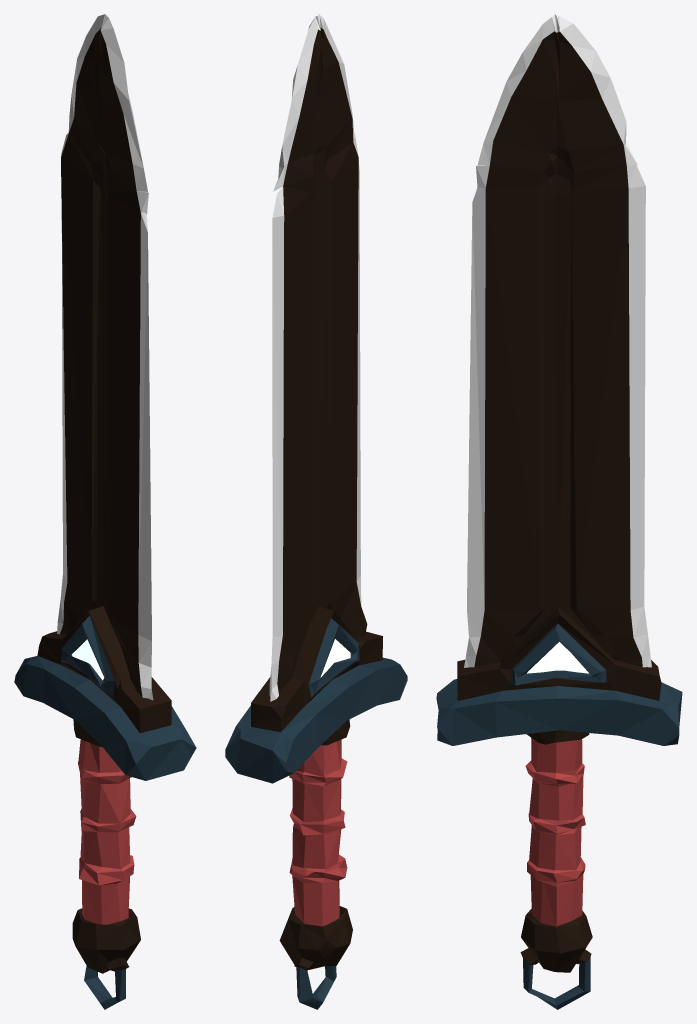
File: SFFA_Weapon_Knife_Iron_002.fbx
3 renders of one model, left to right at view 1: azimuth 30°, elevation 25°; view 2: azimuth 150°, elevation 25°; view 3: azimuth 270°, elevation 25°, orthographic.
Visible parts, largest first — view 1: SFFA_Weapon_Knife_Iron_002; view 2: SFFA_Weapon_Knife_Iron_002; view 3: SFFA_Weapon_Knife_Iron_002.
Part boxes in pixels (box(x1,y1,x2,y2)): SFFA_Weapon_Knife_Iron_002: box(14, 14, 196, 1009); SFFA_Weapon_Knife_Iron_002: box(225, 14, 407, 1009); SFFA_Weapon_Knife_Iron_002: box(436, 14, 682, 1009).
Size of the model in its own units: 2.99 by 43.79 by 9.81.
